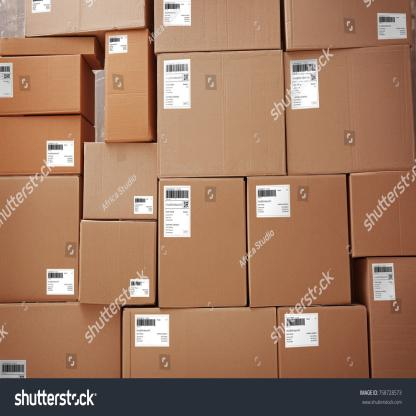box: (282, 41, 416, 176), (156, 48, 287, 180), (245, 173, 353, 309), (121, 304, 279, 378), (159, 176, 246, 308), (0, 172, 81, 304), (0, 302, 120, 377), (78, 219, 158, 307), (285, 0, 413, 52), (278, 306, 369, 377), (152, 0, 282, 49), (81, 140, 158, 222), (366, 257, 416, 377), (350, 173, 416, 258), (0, 52, 83, 116), (104, 30, 151, 143), (0, 115, 84, 177), (23, 0, 146, 37), (0, 35, 98, 55)
